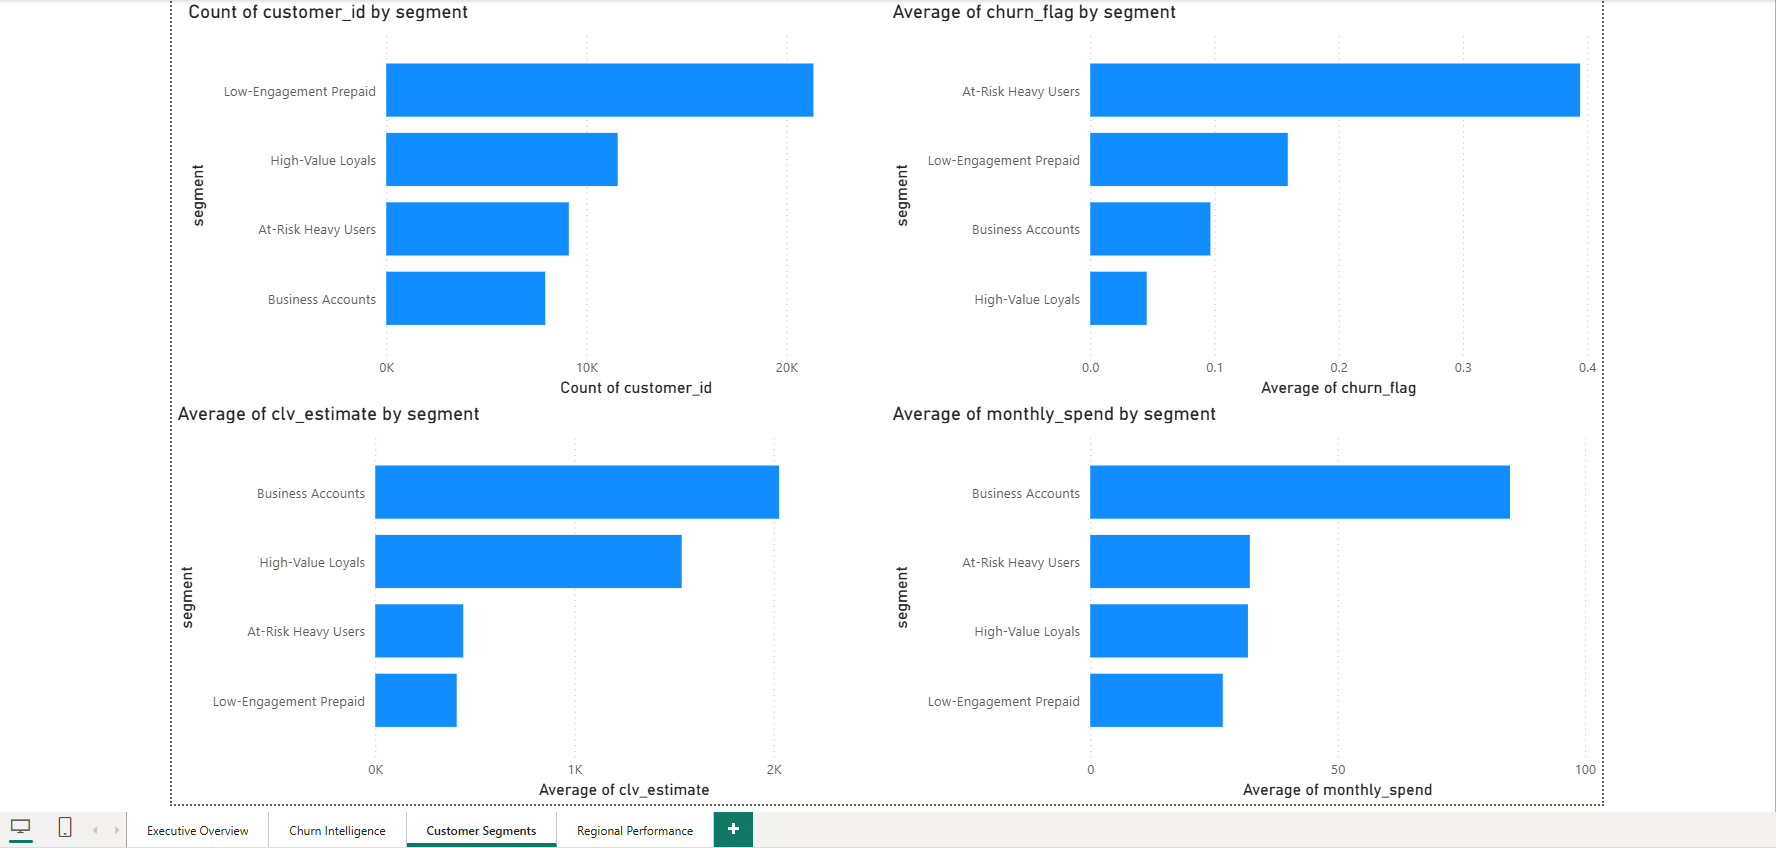

What the dashboard file says about the page in this screenshot:
{"tool":"powerbi","page":{"name":"Customer Segments","canvas":[1280,720],"ordinal":2},"visuals":[{"type":"clusteredBarChart","fields":{"Category":["telecom_segmented.segment"],"Y":["CountNonNull(telecom_segmented.customer_id)"]},"box":[9.7,0,644.9,359.9],"z":0},{"type":"clusteredBarChart","fields":{"Category":["telecom_segmented.segment"],"Y":["Avg(telecom_segmented.clv_estimate)"]},"box":[0,359.9,640,359.9],"z":1},{"type":"clusteredBarChart","fields":{"Category":["telecom_segmented.segment"],"Y":["Avg(telecom_segmented.churn_flag)"]},"box":[640,0,640,359.9],"z":2},{"type":"clusteredBarChart","fields":{"Category":["telecom_segmented.segment"],"Y":["Avg(telecom_segmented.monthly_spend)"]},"box":[640,359.9,640,359.9],"z":3}]}

Visuals, with their boxes on the page's 1280x720 design canvas (x1, y1, x2, y2). These are canvas units, not pixel positions in the 1776x848 screenshot, which may show the page scaled, cropped or inside an application window:
clusteredBarChart - telecom_segmented.segment x CountNonNull(telecom_segmented.customer_id): [x1=10, y1=0, x2=655, y2=360]
clusteredBarChart - telecom_segmented.segment x Avg(telecom_segmented.clv_estimate): [x1=0, y1=360, x2=640, y2=720]
clusteredBarChart - telecom_segmented.segment x Avg(telecom_segmented.churn_flag): [x1=640, y1=0, x2=1280, y2=360]
clusteredBarChart - telecom_segmented.segment x Avg(telecom_segmented.monthly_spend): [x1=640, y1=360, x2=1280, y2=720]
